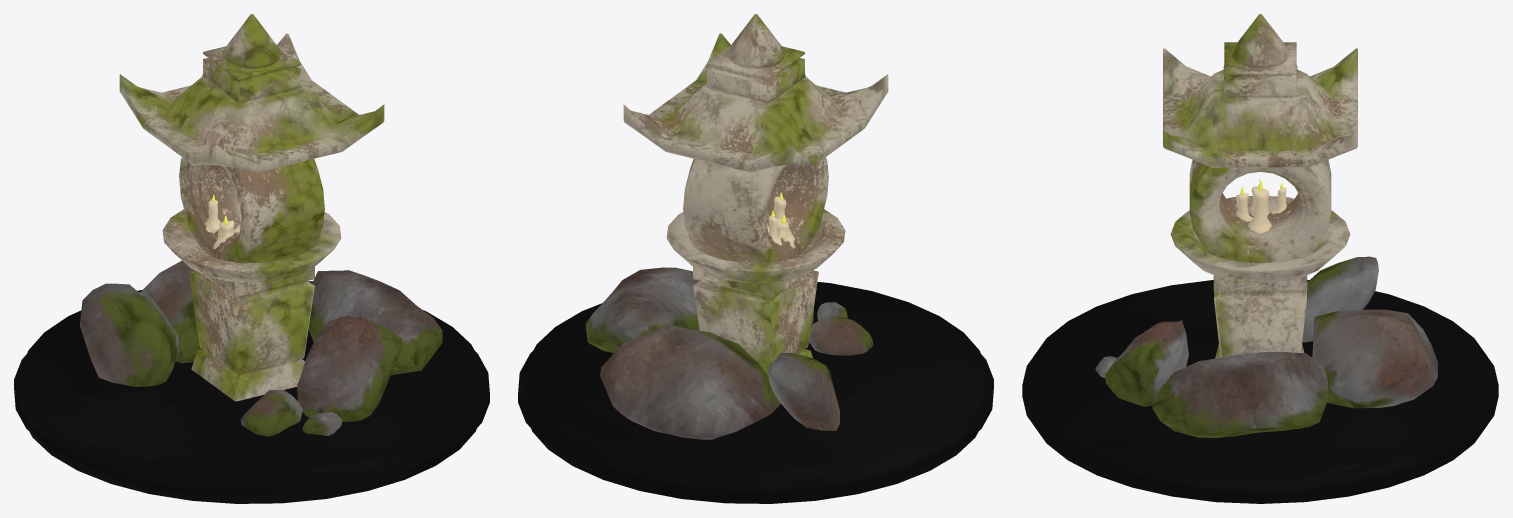
The model's file is stone_japanese_lantern.glb.
The picture shows the model from 3 angles, left to right: view 1: azimuth 30°, elevation 25°; view 2: azimuth 150°, elevation 25°; view 3: azimuth 270°, elevation 25°; orthographic projection.
Visible parts, largest first — view 1: Additionals_UVGrid_0; view 2: Additionals_UVGrid_0; view 3: Additionals_UVGrid_0.
Boxes of the visible parts, x1=… form: Additionals_UVGrid_0: x1=14, y1=14, x2=489, y2=503; Additionals_UVGrid_0: x1=518, y1=14, x2=993, y2=503; Additionals_UVGrid_0: x1=1022, y1=14, x2=1498, y2=503.
Size of the model in its own units: 970 by 879 by 970.
1 material, 1 textured.
